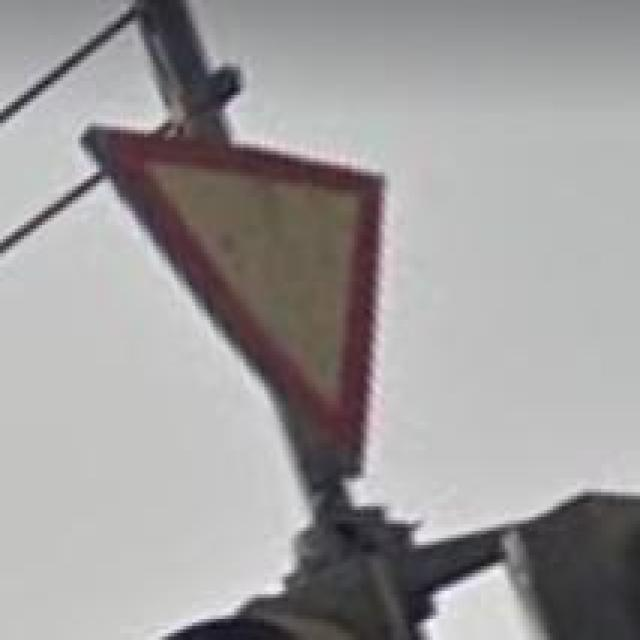give_way: (84, 120, 385, 478)
